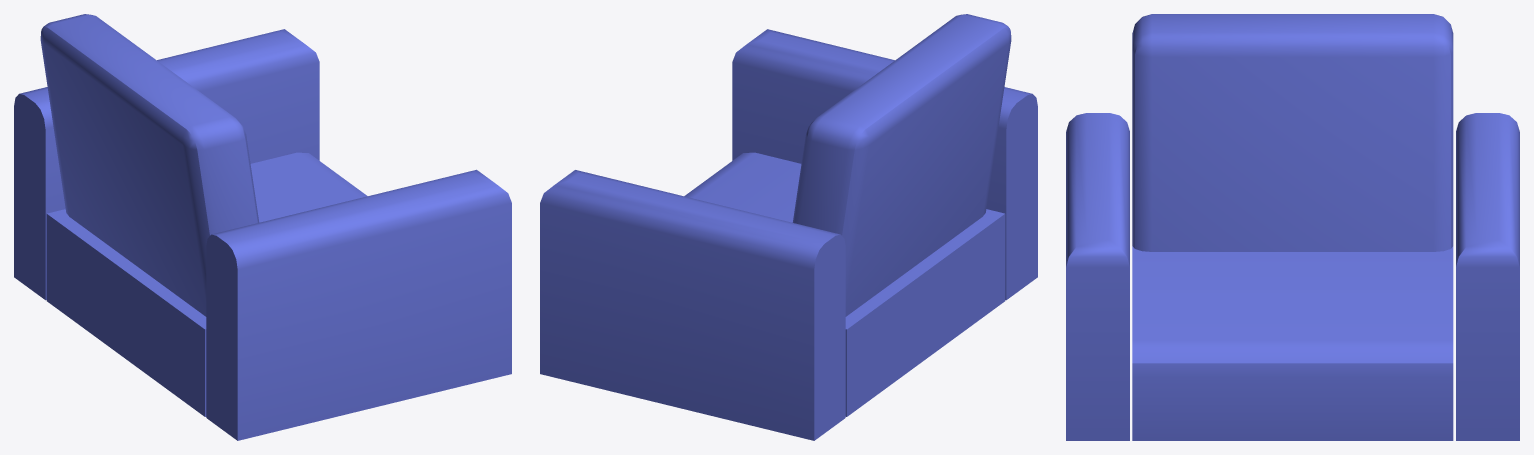
Rendered from sofa.fbx.
3 renders of one model, left to right at view 1: azimuth 30°, elevation 25°; view 2: azimuth 150°, elevation 25°; view 3: azimuth 270°, elevation 25°, orthographic.
Visible parts, largest first — view 1: Cube.009, Cube.011, Cube.008, Cube.010; view 2: Cube.010, Cube.011, Cube.008, Cube.009; view 3: Cube.011, Cube.008, Cube.009, Cube.010.
Boxes of the visible parts, x1,y1,x2,y2 form: Cube.009: [206, 169, 511, 440]; Cube.011: [40, 14, 259, 316]; Cube.008: [46, 152, 367, 416]; Cube.010: [14, 29, 319, 300]; Cube.010: [540, 170, 845, 440]; Cube.011: [792, 14, 1011, 316]; Cube.008: [684, 152, 1005, 416]; Cube.009: [732, 29, 1037, 300]; Cube.011: [1132, 14, 1453, 251]; Cube.008: [1132, 246, 1453, 440]; Cube.009: [1066, 113, 1129, 440]; Cube.010: [1456, 113, 1519, 440].
Bounding box in the file's own units: 209 × 199 × 282.
